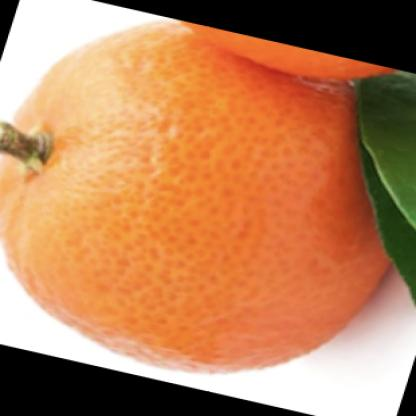fresh: (1, 22, 413, 373)
